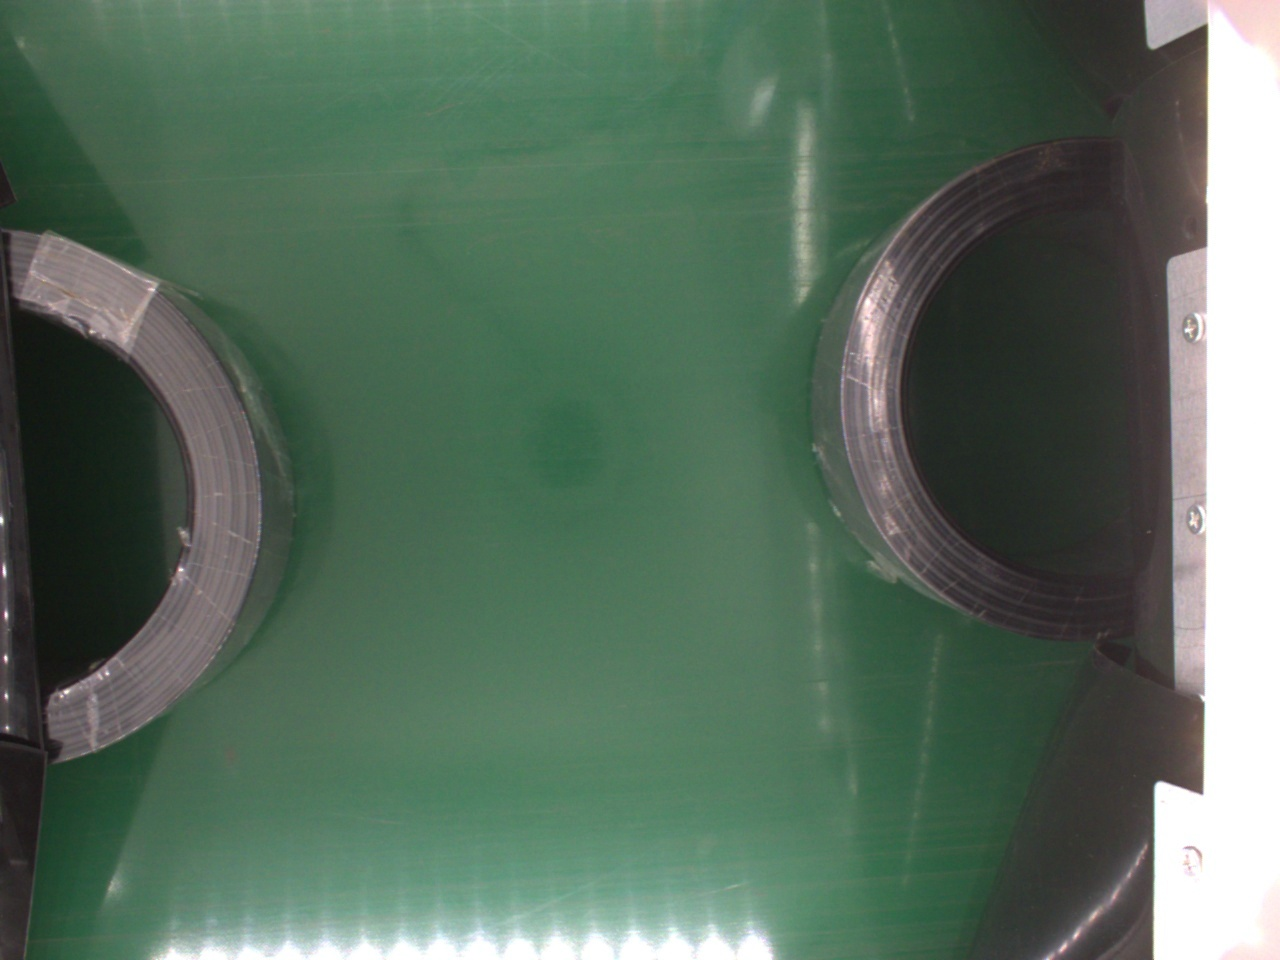black: (806, 133, 1162, 649), (6, 225, 291, 769)
